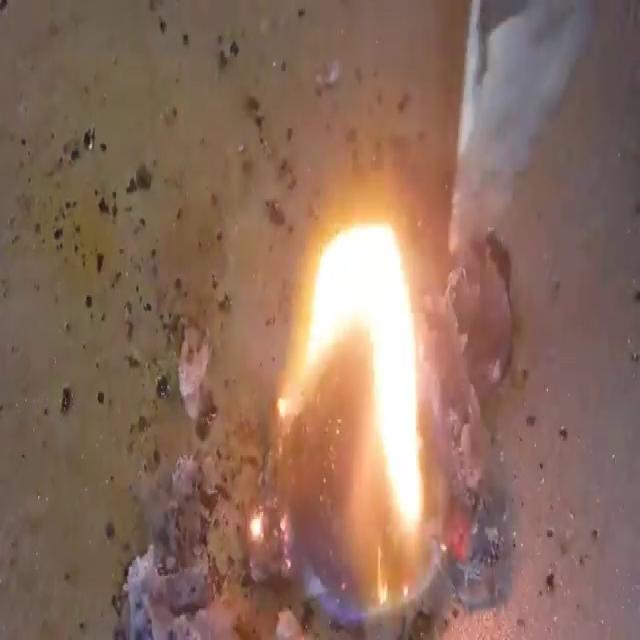Fire: (240, 154, 478, 640)
